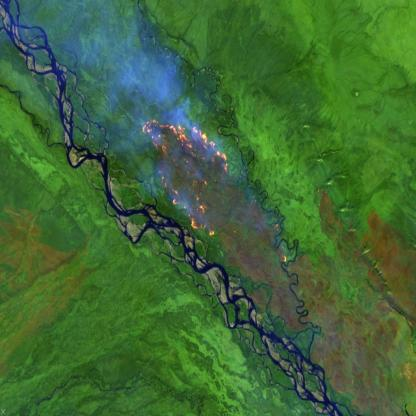fire: (140, 115, 230, 242)
